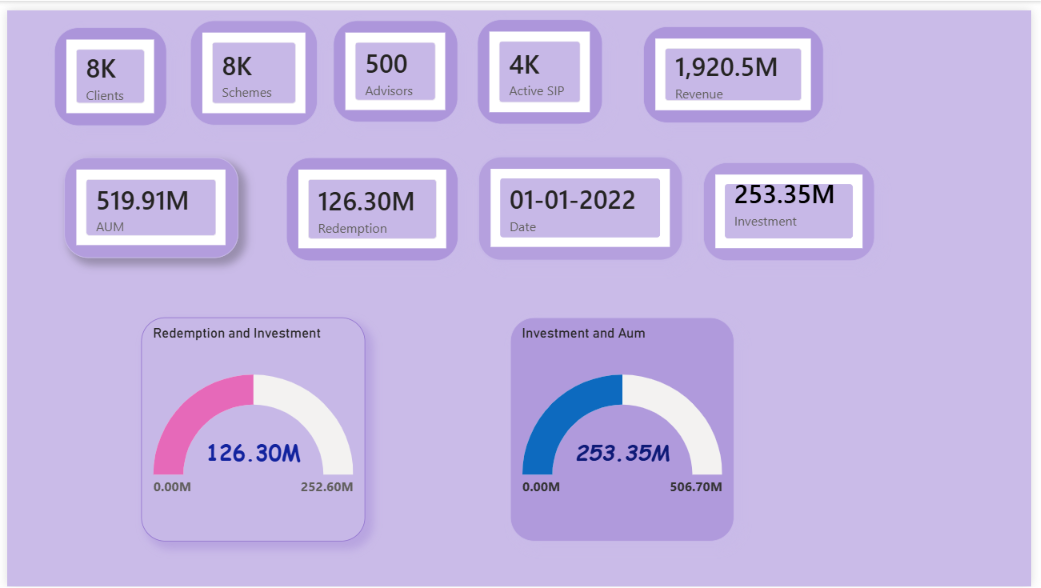

What the dashboard file says about the page in this screenshot:
{"tool":"powerbi","page":{"name":"Executive dashboard","canvas":[1280,720],"ordinal":1},"visuals":[{"type":"cardVisual","fields":{"Data":["Sum(executive_dashboard_mart.total_clients)"]},"box":[58.5,21.1,140.4,122.9],"z":0},{"type":"cardVisual","fields":{"Data":["Sum(executive_dashboard_mart.total_advisors)"]},"box":[407.2,12.9,155.6,127.6],"z":1},{"type":"cardVisual","fields":{"Data":["Sum(executive_dashboard_mart.total_aum)"]},"box":[71.6,183.2,217.7,125.2],"z":2},{"type":"cardVisual","fields":{"Data":["Sum(executive_dashboard_mart.total_investment)"]},"box":[870.3,190.3,214.2,122.9],"z":3},{"type":"cardVisual","fields":{"Data":["Sum(executive_dashboard_mart.total_redemption)"]},"box":[348.8,183.2,215.3,129.9],"z":4},{"type":"cardVisual","fields":{"Data":["Avg(executive_dashboard_mart.total_revenue)"]},"box":[795.2,20,225.9,120.5],"z":5},{"type":"cardVisual","fields":{"Data":["Sum(executive_dashboard_mart.active_sips)"]},"box":[587.5,11.7,156.8,131.1],"z":6},{"type":"cardVisual","fields":{"Data":["Sum(executive_dashboard_mart.active_schemes)"]},"box":[228.2,12.9,159.2,131.1],"z":7},{"type":"cardVisual","fields":{"Data":["Min(client_portfolio_summary_mart.last_updated_date)"]},"box":[587.3,180.9,258.4,132.7],"z":8},{"type":"gauge","fields":{"Y":["Sum(executive_dashboard_mart.total_investment)"],"TargetValue":["Sum(executive_dashboard_mart.total_aum)"]},"box":[628.4,384.1,280,280],"z":9},{"type":"gauge","fields":{"Y":["Sum(executive_dashboard_mart.total_redemption)"],"TargetValue":["Sum(executive_dashboard_mart.total_investment)"]},"box":[168,384.1,280,280],"z":10}]}

Visuals, with their boxes in screenshot pixels (x1, y1, x2, y2), scaled from the page's 1280x720 canvas onto the 1041x588 screenshot:
cardVisual - Sum(executive_dashboard_mart.total_clients): <bbox>48, 17, 162, 118</bbox>
cardVisual - Sum(executive_dashboard_mart.total_advisors): <bbox>331, 11, 458, 115</bbox>
cardVisual - Sum(executive_dashboard_mart.total_aum): <bbox>58, 150, 235, 252</bbox>
cardVisual - Sum(executive_dashboard_mart.total_investment): <bbox>708, 155, 882, 256</bbox>
cardVisual - Sum(executive_dashboard_mart.total_redemption): <bbox>284, 150, 459, 256</bbox>
cardVisual - Avg(executive_dashboard_mart.total_revenue): <bbox>647, 16, 830, 115</bbox>
cardVisual - Sum(executive_dashboard_mart.active_sips): <bbox>478, 10, 605, 117</bbox>
cardVisual - Sum(executive_dashboard_mart.active_schemes): <bbox>186, 11, 315, 118</bbox>
cardVisual - Min(client_portfolio_summary_mart.last_updated_date): <bbox>478, 148, 688, 256</bbox>
gauge - Sum(executive_dashboard_mart.total_investment) x Sum(executive_dashboard_mart.total_aum): <bbox>511, 314, 739, 542</bbox>
gauge - Sum(executive_dashboard_mart.total_redemption) x Sum(executive_dashboard_mart.total_investment): <bbox>137, 314, 364, 542</bbox>
